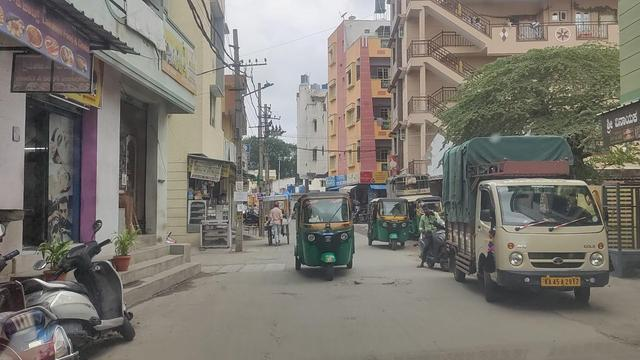HMV: (446, 139, 608, 300)
LMV: (295, 197, 355, 286)
RoadDamages: (209, 257, 282, 276), (360, 267, 404, 291)
